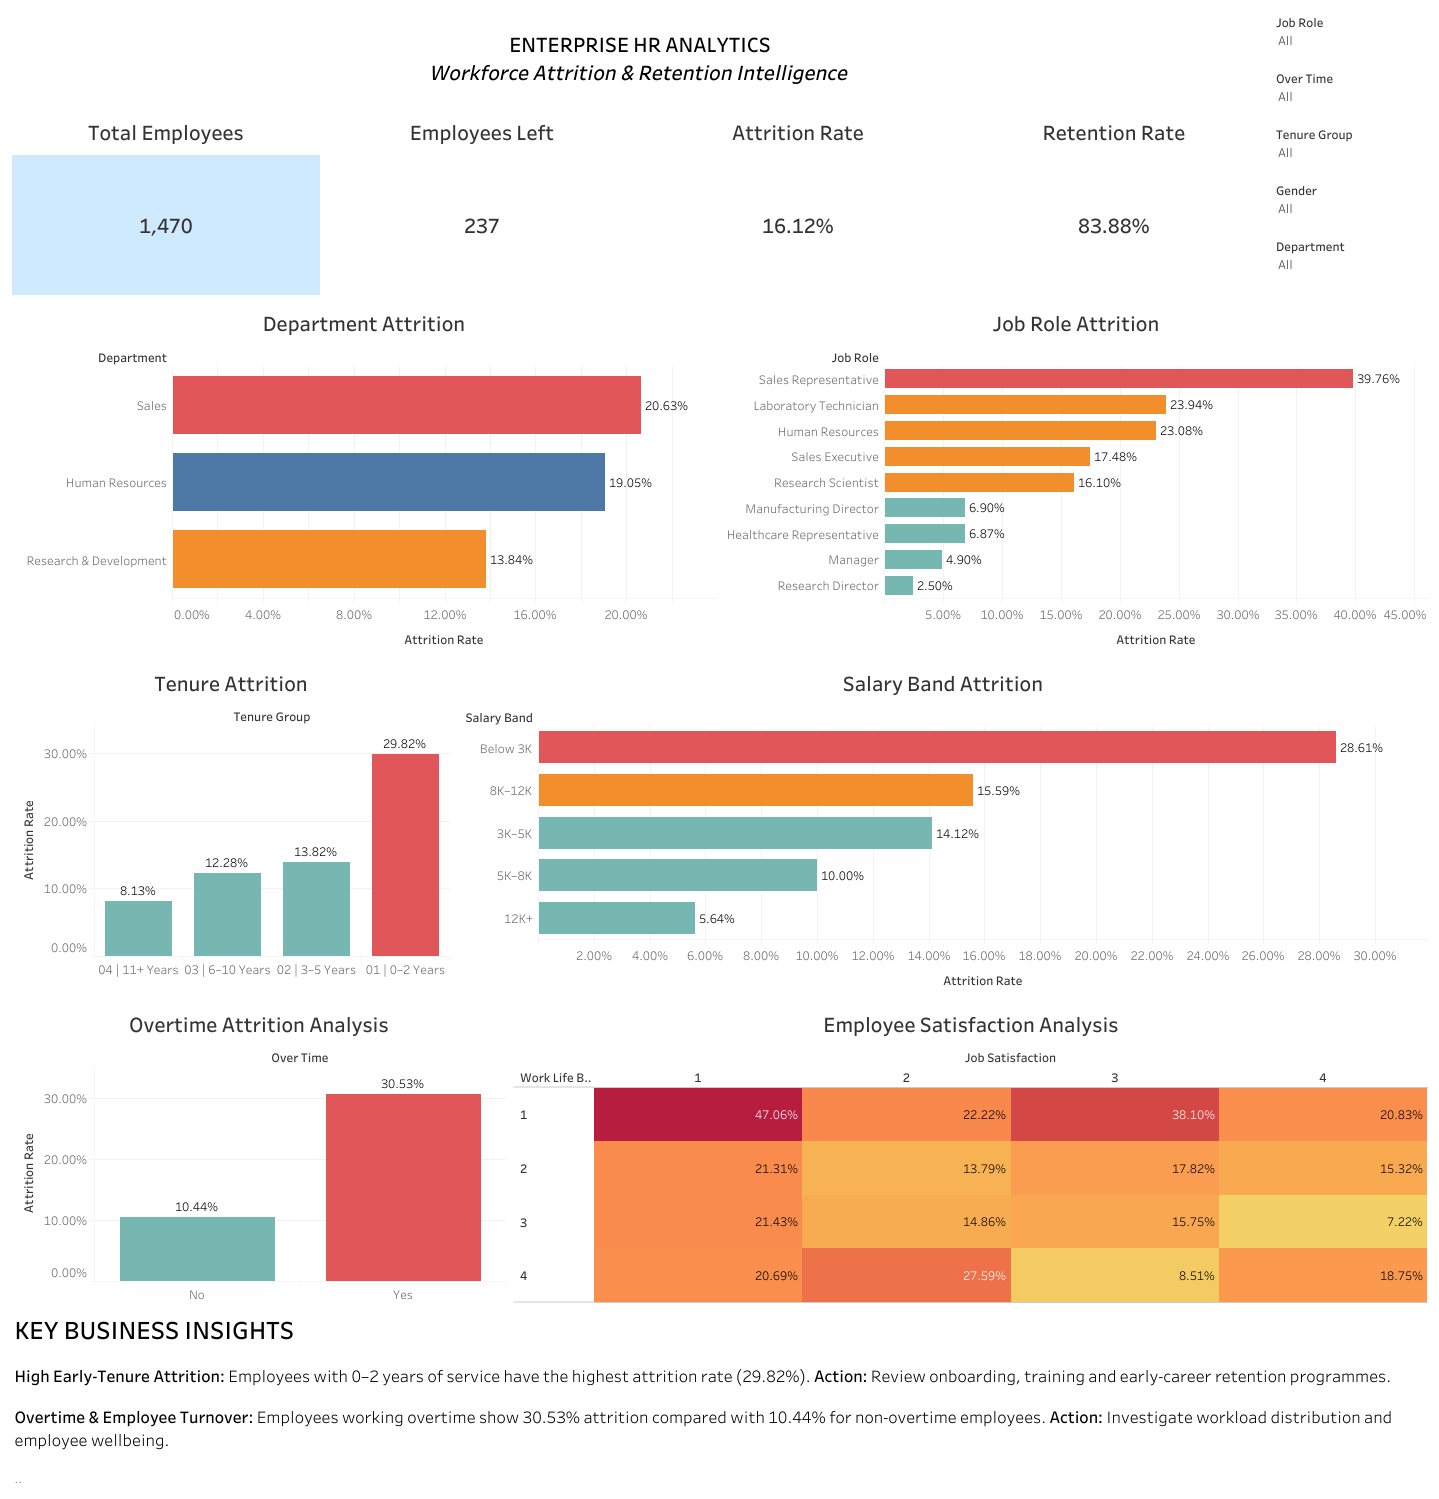

What the dashboard file says about the page in this screenshot:
{"tool":"tableau","page":{"name":"HR Executive Dashboard","canvas":[1440,1500],"ordinal":0},"visuals":[{"type":"text","box":[8,8,1264,100.4]},{"type":"filter","title":"Salary Band Attrition","param":"[federated.0k1v0ms0vv5j111ejbamg1aptzvr].[none:JobRole:nk]","box":[1272,8,160,56]},{"type":"filter","title":"Salary Band Attrition","param":"[federated.0k1v0ms0vv5j111ejbamg1aptzvr].[none:OverTime:nk]","box":[1272,64,160,56]},{"type":"worksheet","title":"Total Employees","mark":"Automatic","box":[8,108.4,316,190.6]},{"type":"worksheet","title":"Employees Left","mark":"Automatic","box":[324,108.4,316,190.6]},{"type":"worksheet","title":"Attrition Rate","mark":"Automatic","box":[640,108.4,316,190.6]},{"type":"worksheet","title":"Retention Rate","mark":"Automatic","box":[956,108.4,316,190.6]},{"type":"filter","title":"Overtime Attrition Analysis","param":"[federated.0k1v0ms0vv5j111ejbamg1aptzvr].[none:Calculation_0014287346999391:nk]","box":[1272,120,160,56]},{"type":"filter","title":"Department Attrition","param":"[federated.0k1v0ms0vv5j111ejbamg1aptzvr].[none:Gender:nk]","box":[1272,176,160,56]},{"type":"filter","title":"Job Role Attrition","param":"[federated.0k1v0ms0vv5j111ejbamg1aptzvr].[none:Department:nk]","box":[1272,232,160,56]},{"type":"worksheet","title":"Department Attrition","mark":"Automatic","rows":["Department"],"cols":["Calculation_0014287343525979"],"box":[8,299,712,360]},{"type":"worksheet","title":"Job Role Attrition","mark":"Automatic","rows":["JobRole"],"cols":["Calculation_0014287343525979"],"box":[720,299,712,360]},{"type":"worksheet","title":"Tenure Attrition","mark":"Bar","rows":["Calculation_0014287343525979"],"cols":["Calculation_0014287346999391"],"box":[8,659,446,341]},{"type":"worksheet","title":"Salary Band Attrition","mark":"Automatic","rows":["Calculation_0014287348887650"],"cols":["Calculation_0014287343525979"],"box":[454,659,978,341]},{"type":"worksheet","title":"Overtime Attrition Analysis","mark":"Automatic","rows":["Calculation_0014287343525979"],"cols":["OverTime"],"box":[8,1000,502.3,307.3]},{"type":"worksheet","title":"Employee Satisfaction","mark":"Square","rows":["WorkLifeBalance"],"cols":["JobSatisfaction"],"box":[510.3,1000,921.6,307.3]},{"type":"text","box":[8,1307.3,1424,184.7]}]}

Visuals, with their boxes in screenshot pixels (x1, y1, x2, y2), scaled from the page's 1440x1500 canvas onto the 1439x1499 screenshot:
text: {"x1": 8, "y1": 8, "x2": 1271, "y2": 108}
"Salary Band Attrition" filter: {"x1": 1271, "y1": 8, "x2": 1431, "y2": 64}
"Salary Band Attrition" filter: {"x1": 1271, "y1": 64, "x2": 1431, "y2": 120}
"Total Employees" worksheet: {"x1": 8, "y1": 108, "x2": 324, "y2": 299}
"Employees Left" worksheet: {"x1": 324, "y1": 108, "x2": 640, "y2": 299}
"Attrition Rate" worksheet: {"x1": 640, "y1": 108, "x2": 955, "y2": 299}
"Retention Rate" worksheet: {"x1": 955, "y1": 108, "x2": 1271, "y2": 299}
"Overtime Attrition Analysis" filter: {"x1": 1271, "y1": 120, "x2": 1431, "y2": 176}
"Department Attrition" filter: {"x1": 1271, "y1": 176, "x2": 1431, "y2": 232}
"Job Role Attrition" filter: {"x1": 1271, "y1": 232, "x2": 1431, "y2": 288}
"Department Attrition" worksheet: {"x1": 8, "y1": 299, "x2": 720, "y2": 659}
"Job Role Attrition" worksheet: {"x1": 720, "y1": 299, "x2": 1431, "y2": 659}
"Tenure Attrition" worksheet (Bar marks): {"x1": 8, "y1": 659, "x2": 454, "y2": 999}
"Salary Band Attrition" worksheet: {"x1": 454, "y1": 659, "x2": 1431, "y2": 999}
"Overtime Attrition Analysis" worksheet: {"x1": 8, "y1": 999, "x2": 510, "y2": 1306}
"Employee Satisfaction" worksheet (Square marks): {"x1": 510, "y1": 999, "x2": 1431, "y2": 1306}
text: {"x1": 8, "y1": 1306, "x2": 1431, "y2": 1491}
